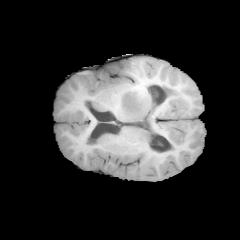glioma: (117, 89, 147, 120)
